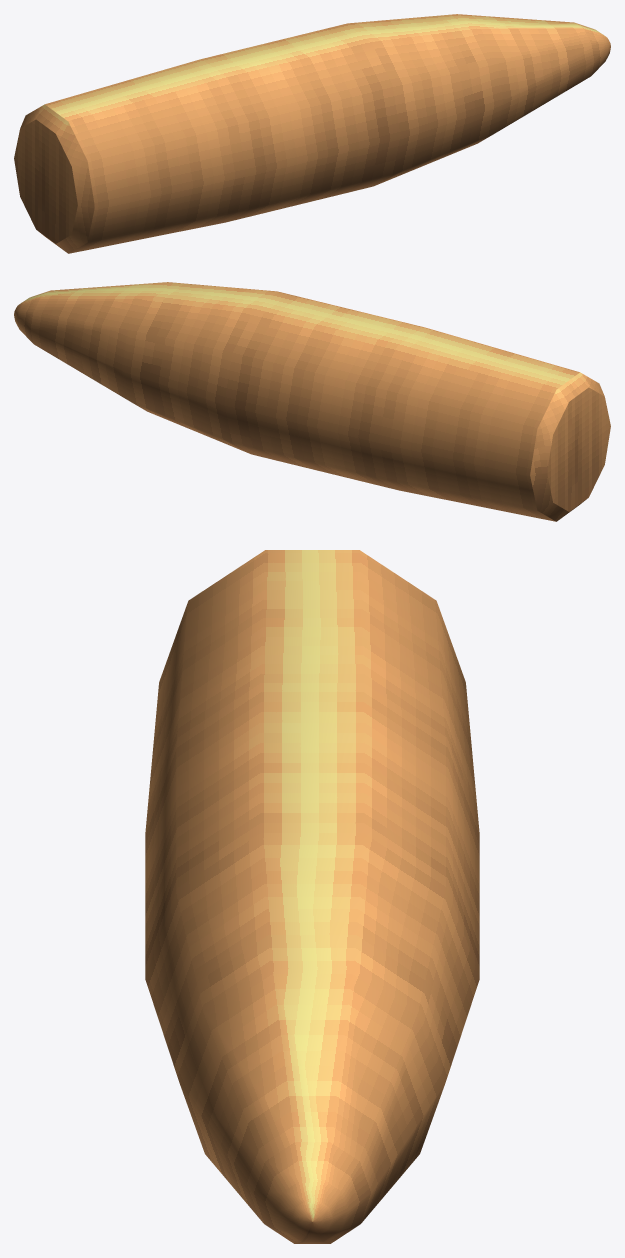
File: ammomaker_BulletRifleM.fbx
The picture shows the model from 3 angles, top to bottom: view 1: azimuth 30°, elevation 25°; view 2: azimuth 150°, elevation 25°; view 3: azimuth 270°, elevation 25°; orthographic projection. The views are drawn at different scales.
Visible parts, largest first — view 1: ammomaker_BulletRifleM; view 2: ammomaker_BulletRifleM; view 3: ammomaker_BulletRifleM.
Boxes of the visible parts, bbox=[...] form: ammomaker_BulletRifleM: bbox=[14, 14, 610, 253]; ammomaker_BulletRifleM: bbox=[14, 282, 610, 521]; ammomaker_BulletRifleM: bbox=[145, 550, 479, 1243].
Bounding box in the file's own units: 3.05 × 0.7467 × 0.7851.
